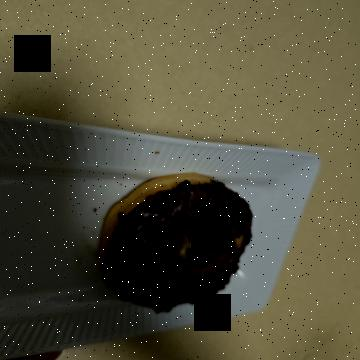doughnut: (164, 94, 337, 275)
